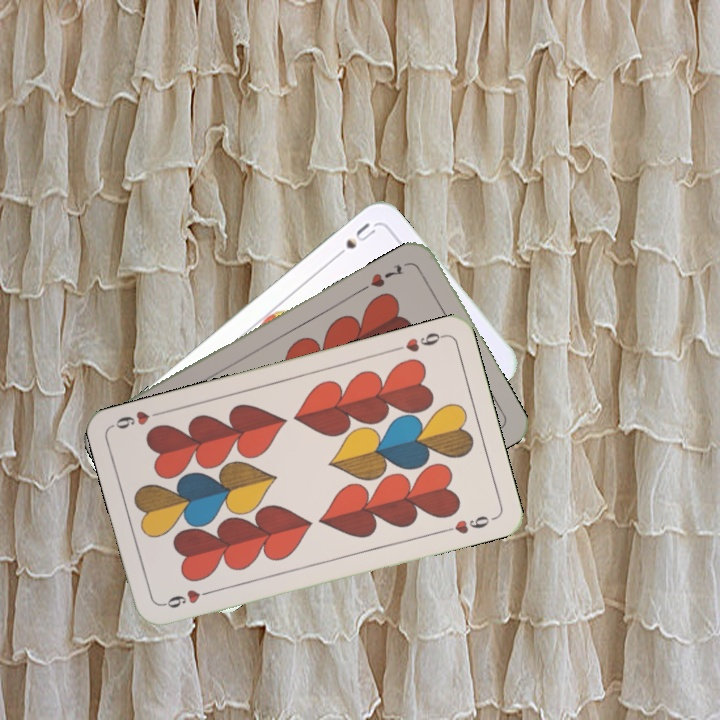H7: (366, 260, 405, 290)
H9: (390, 328, 448, 355), (159, 585, 217, 611)
SU: (328, 218, 379, 263)
